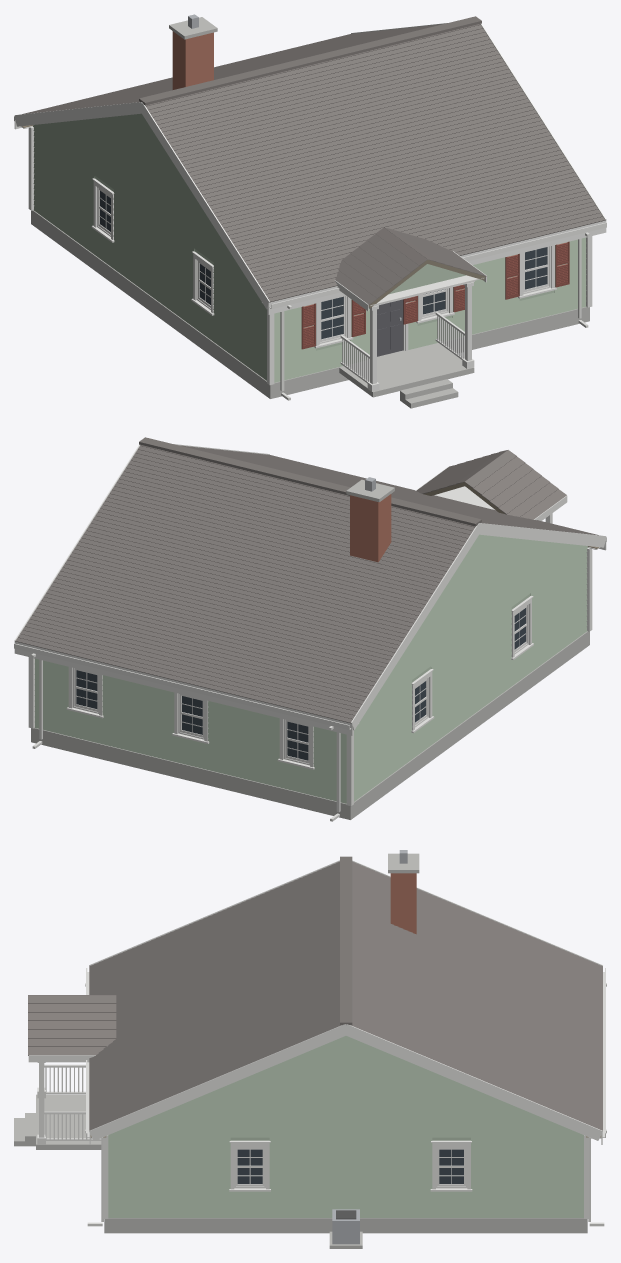
Rendered from SM_House_1F_C.fbx.
3 views of the same model, one above another, from view 1: azimuth 30°, elevation 25°; view 2: azimuth 150°, elevation 25°; view 3: azimuth 270°, elevation 25° (orthographic).
Parts seen in each view (by area): view 1: SM_House_1F_C_LOD0; view 2: SM_House_1F_C_LOD0; view 3: SM_House_1F_C_LOD0.
Part boxes in pixels (<box>): SM_House_1F_C_LOD0: <box>14,14,606,408</box>; SM_House_1F_C_LOD0: <box>14,437,606,821</box>; SM_House_1F_C_LOD0: <box>14,850,606,1248</box>.
Size of what is drawn, in the model's own units: 11.38 by 7.75 by 16.07.
